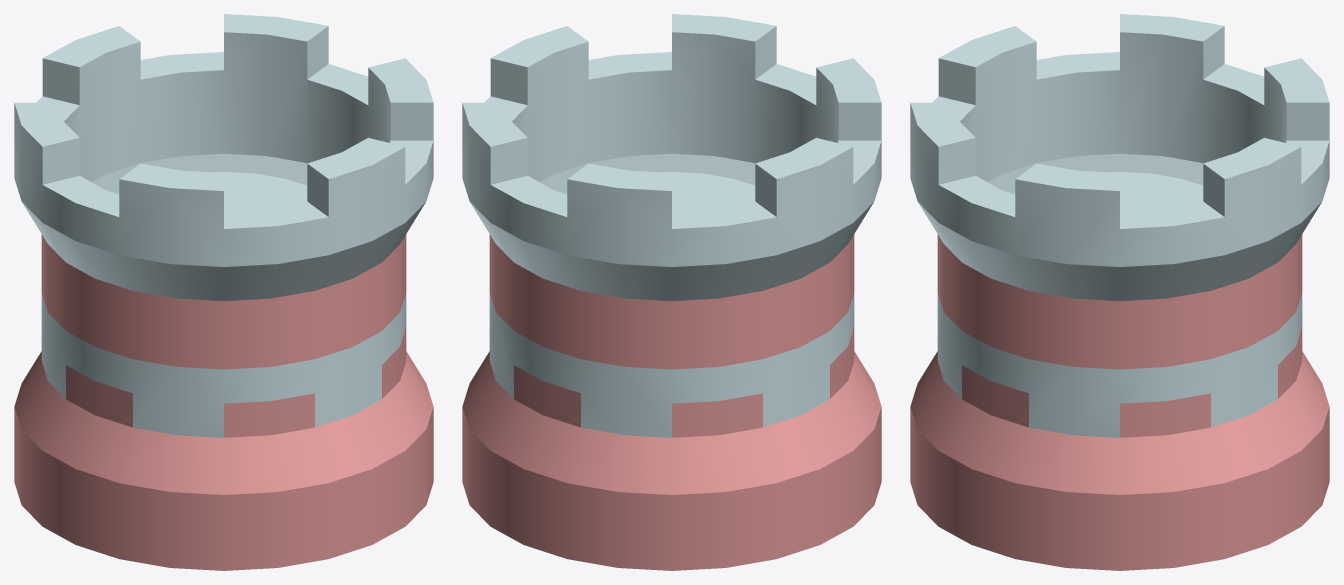
The model's file is towerRound_sampleC.glb.
3 views of the same model, side by side, from view 1: azimuth 30°, elevation 25°; view 2: azimuth 150°, elevation 25°; view 3: azimuth 270°, elevation 25° (orthographic).
Parts seen in each view (by area): view 1: towerRound_sampleC; view 2: towerRound_sampleC; view 3: towerRound_sampleC.
Part boxes in pixels (box(x1,y1,x2,y2)): towerRound_sampleC: box(14, 14, 433, 570); towerRound_sampleC: box(462, 14, 881, 570); towerRound_sampleC: box(910, 14, 1329, 570).
Bounding box in the file's own units: 1 × 1 × 1.
